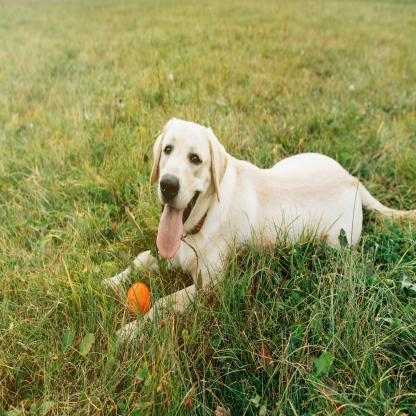dog: (101, 119, 416, 340)
